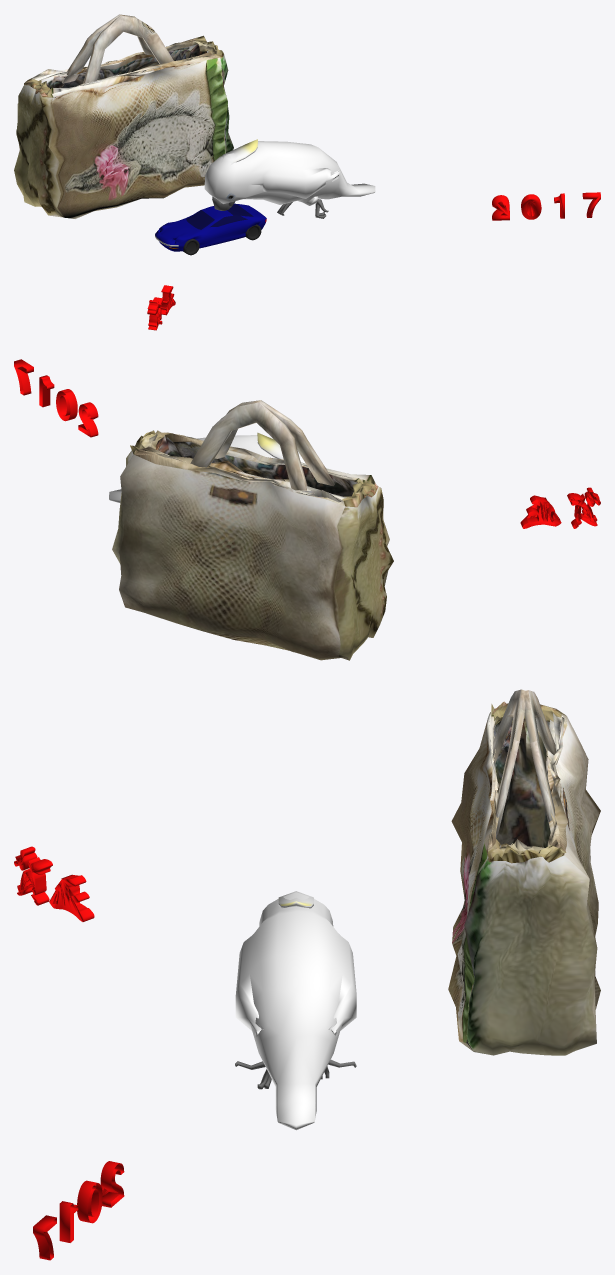
Rendered from 2017_nenga.obj.
3 renders of one model, top to bottom at view 1: azimuth 30°, elevation 25°; view 2: azimuth 150°, elevation 25°; view 3: azimuth 270°, elevation 25°, orthographic. The views are drawn at different scales.
Visible parts, largest first — view 1: 2017_nenga.obj; view 2: 2017_nenga.obj; view 3: 2017_nenga.obj.
Boxes of the visible parts, box(x1,y1,x2,y2) form: 2017_nenga.obj: box(14, 14, 600, 330); 2017_nenga.obj: box(14, 359, 600, 660); 2017_nenga.obj: box(14, 689, 600, 1260).
Size of the model in its own units: 0.7589 by 0.2865 by 0.4987.
Materials: 15 (6 with a texture image).
